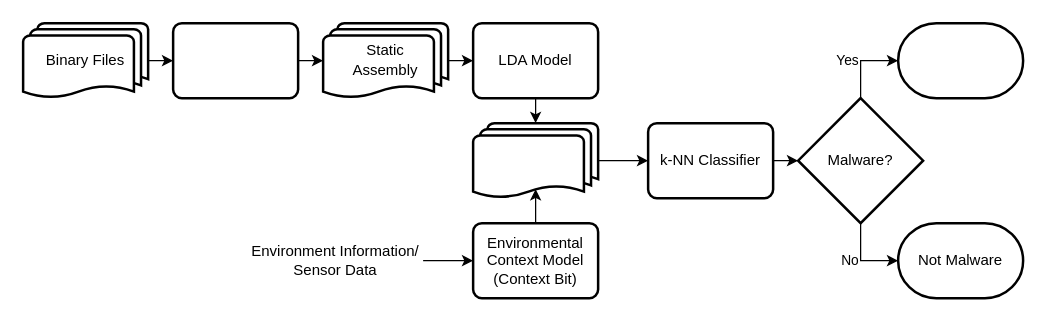
This 1045x320 diagram has some shape labels left out. Each missing label, with the box of its shape:
Malware Detected: (896, 21, 1024, 99)
Static Disassembly Tool: (171, 21, 299, 99)
Structural and Contextual Features: (471, 121, 599, 199)
